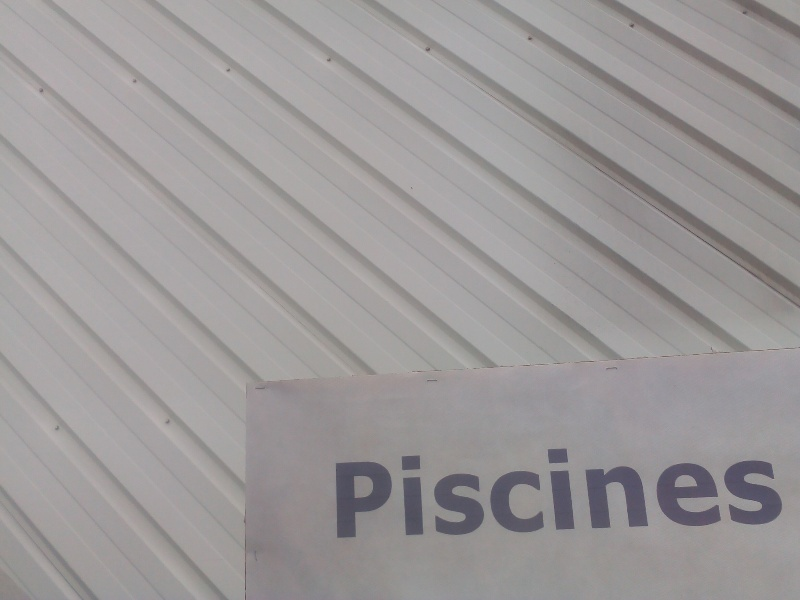text: (337, 447, 352, 539), (353, 447, 368, 539), (369, 447, 384, 539), (385, 447, 400, 539), (401, 447, 416, 539), (417, 447, 432, 539), (433, 447, 448, 539), (449, 447, 464, 539), (465, 447, 480, 539), (481, 447, 496, 539), (497, 447, 512, 539), (513, 447, 528, 539), (529, 447, 544, 539), (545, 447, 560, 539), (561, 447, 576, 539), (577, 447, 592, 539), (593, 447, 608, 539), (609, 447, 624, 539), (625, 447, 640, 539), (641, 447, 656, 539), (657, 447, 672, 539), (673, 447, 688, 539), (689, 447, 704, 539), (705, 447, 720, 539), (721, 447, 736, 539), (737, 447, 752, 539), (753, 447, 768, 539), (769, 447, 784, 539), (785, 447, 788, 539)
